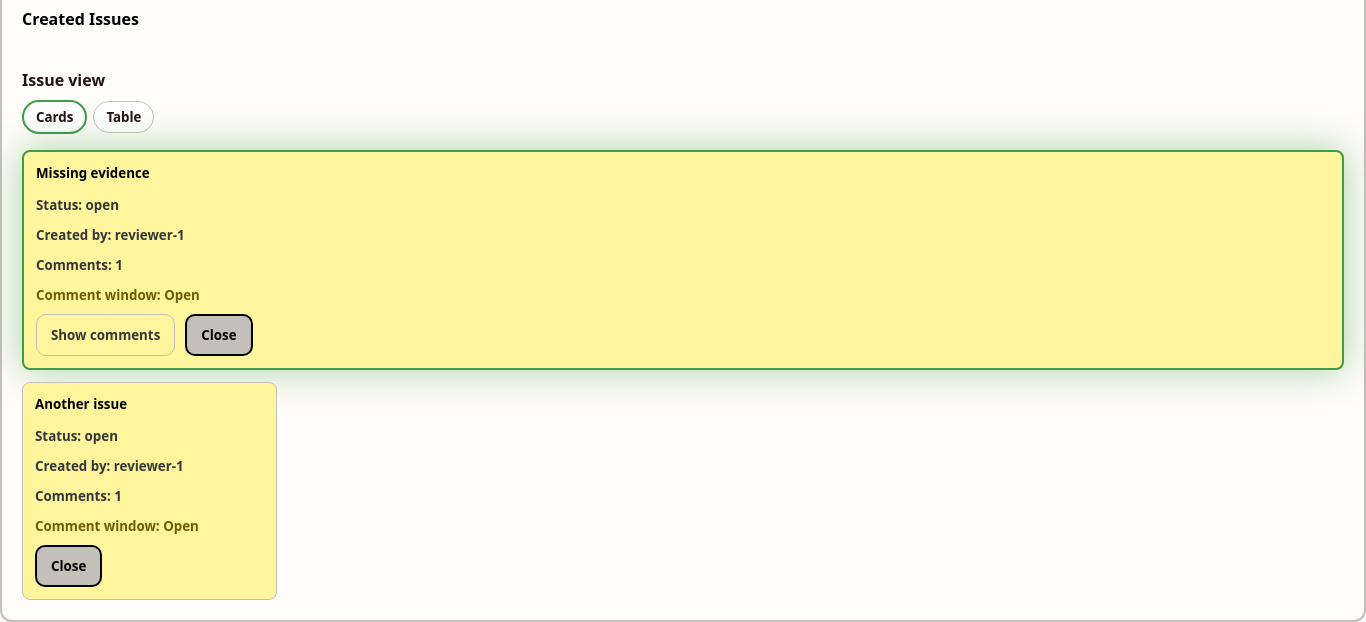
Test: ReviewIssuesPanel › keeps the comment visibility preference when selecting another issue
(page scrolled)
Check: the text "Please add evidence." is not shown
Step 1. Click the button "Show comments" → (106, 335), box [36,314,175,356]
(page scrolled)
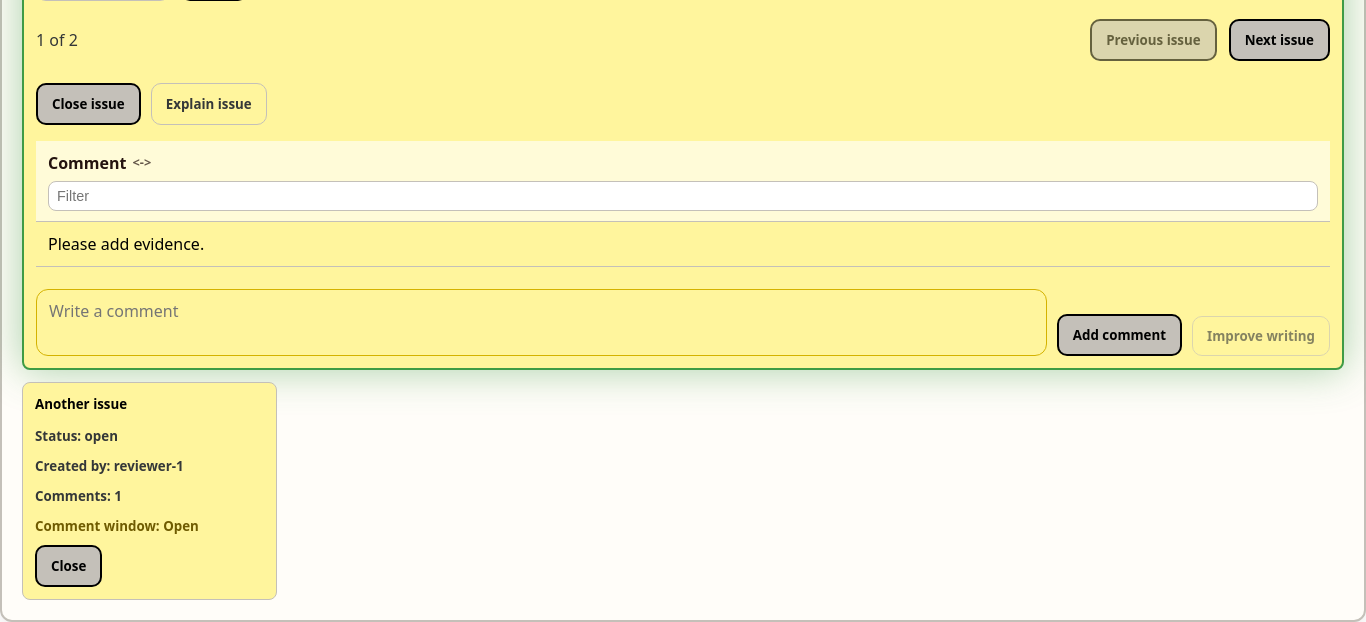
Check: the text "Please add evidence." is shown, box [36,222,1330,266]
Step 2. Click the button with aria-label "Select issue Another issue" → (149, 467), box [35,395,264,539]
(page scrolled)
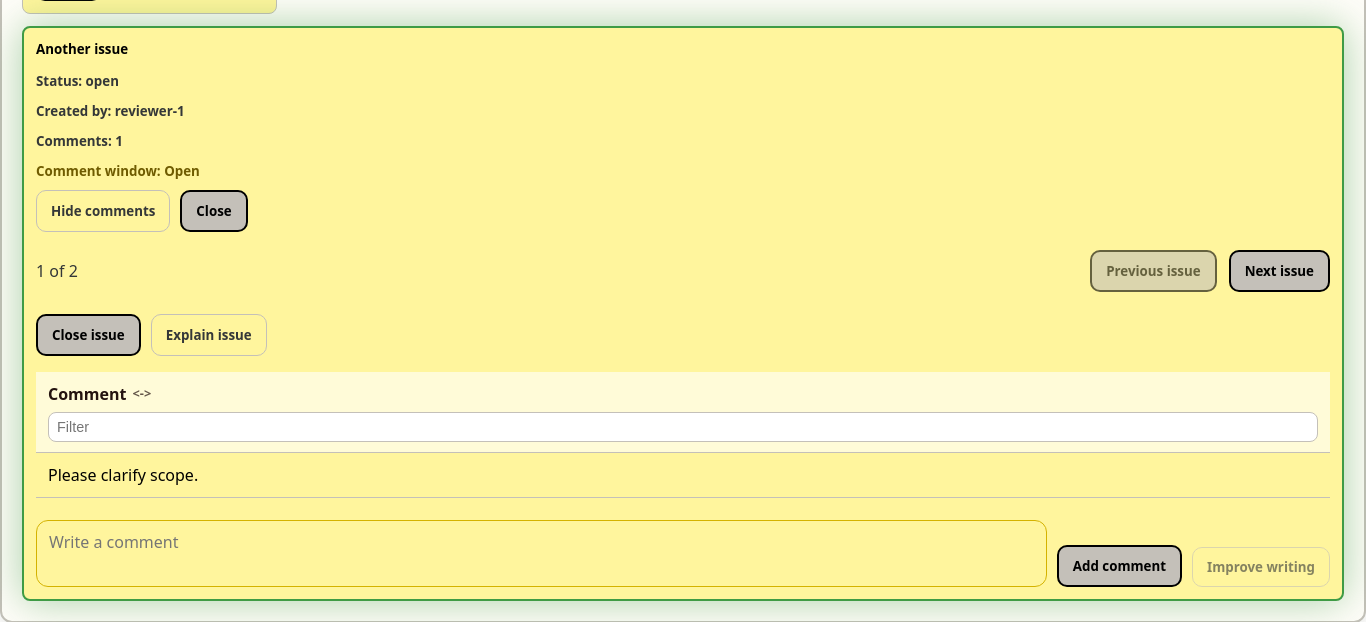
Check: the button "Hide comments" is shown, box [36,190,170,232]
Check: the text "Please add evidence." is gone
Check: the text "Please clarify scope." is shown, box [36,452,1330,498]
